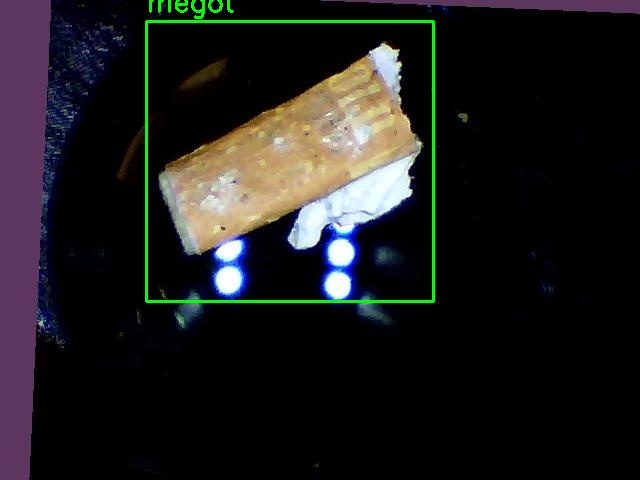megot: (146, 21, 433, 301)
